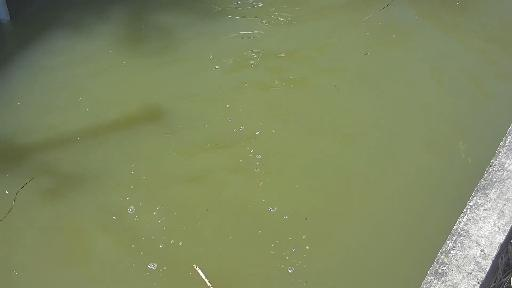twig: (0, 168, 48, 234), (186, 264, 228, 288)
